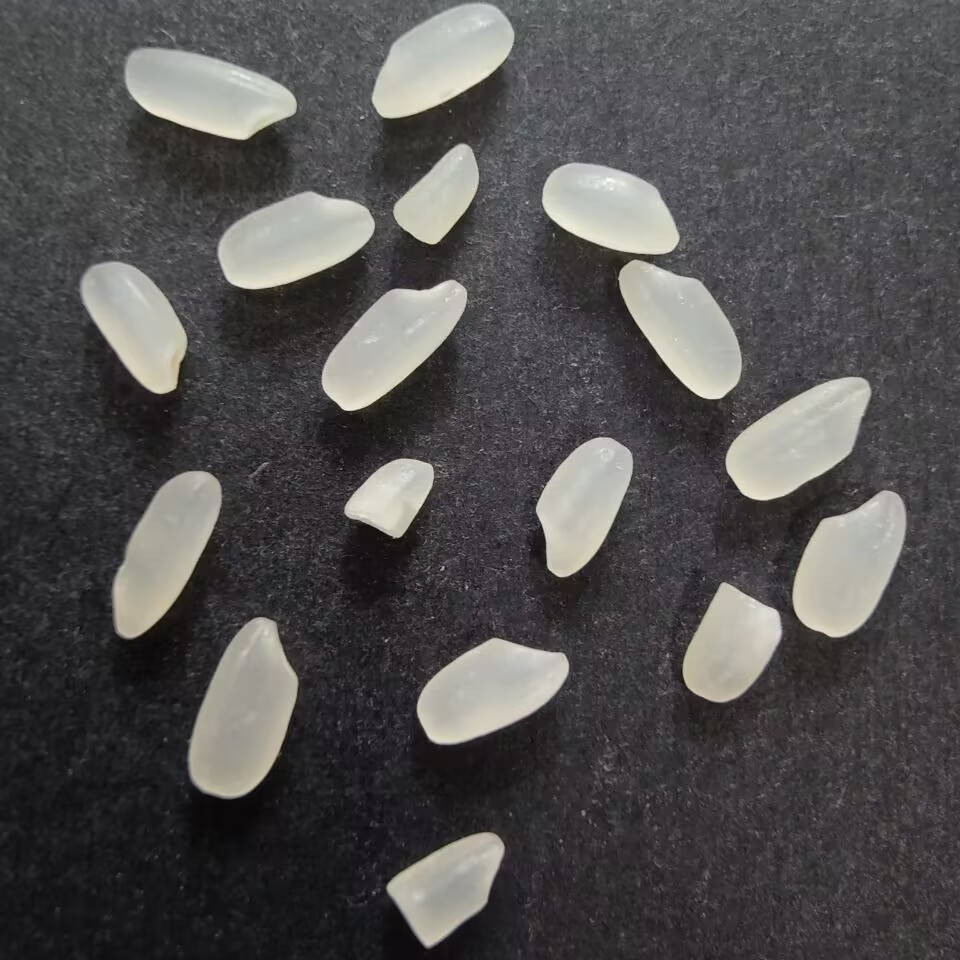broken: (382, 828, 505, 948), (679, 578, 786, 710), (391, 141, 482, 249), (344, 457, 437, 537)
rice: (186, 611, 299, 805), (318, 276, 473, 413), (109, 467, 225, 643), (724, 374, 876, 506), (413, 633, 573, 752), (789, 486, 909, 644), (617, 258, 746, 401), (119, 42, 302, 142), (368, 1, 518, 120), (214, 188, 377, 291), (78, 258, 191, 398), (531, 435, 635, 577), (538, 160, 685, 256)
